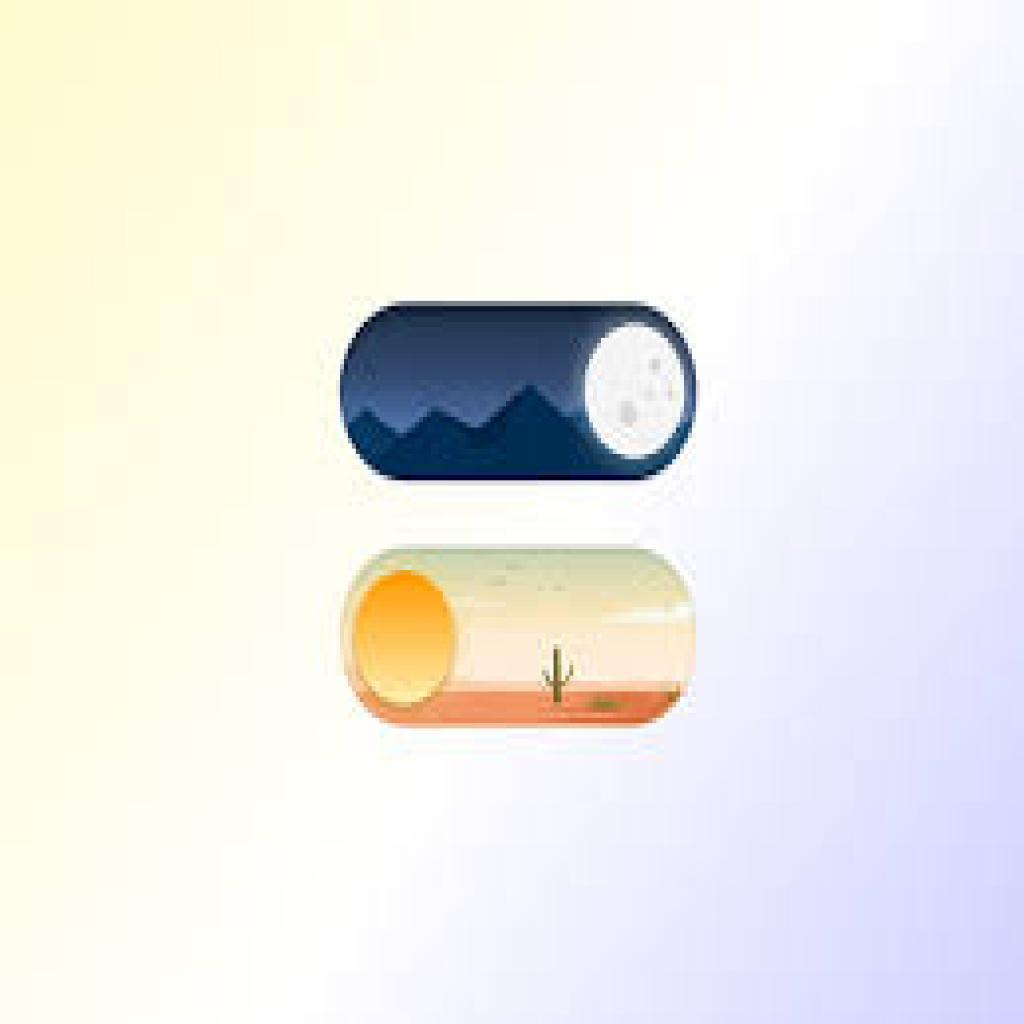switch: (339, 549, 699, 732), (341, 302, 702, 483)
